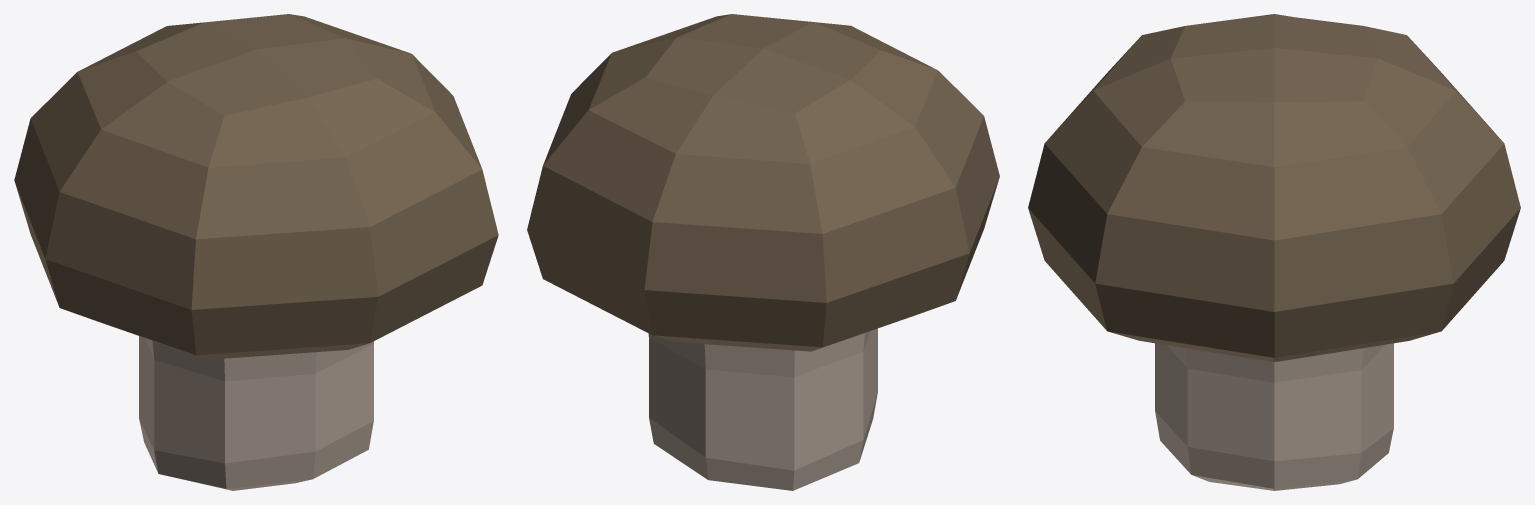
Rendered from minimooshroom 1.fbx.
The picture shows the model from 3 angles, left to right: view 1: azimuth 30°, elevation 25°; view 2: azimuth 150°, elevation 25°; view 3: azimuth 270°, elevation 25°; orthographic projection. The views are drawn at different scales.
Visible parts, largest first — view 1: Cube; view 2: Cube; view 3: Cube.
Boxes of the visible parts, box(x1,y1,x2,y2) form: Cube: box(14, 14, 498, 490); Cube: box(527, 14, 999, 490); Cube: box(1028, 14, 1520, 490).
Bounding box in the file's own units: 378 × 352 × 378.
